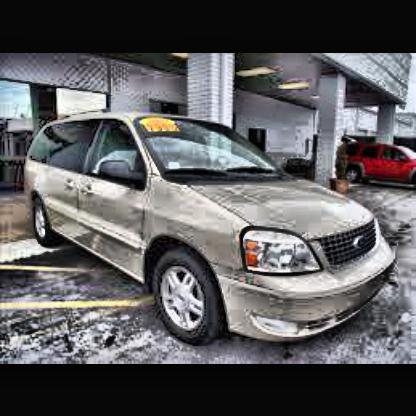Ford Freestar Minivan 2007: (27, 112, 398, 348)
